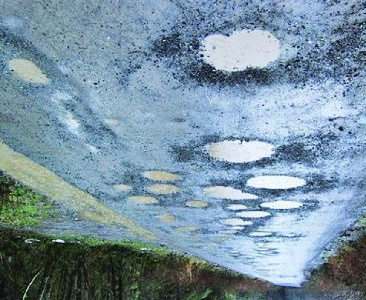pothole: (187, 25, 283, 87), (199, 138, 276, 166), (5, 57, 51, 88), (242, 176, 309, 192), (138, 169, 184, 184), (258, 198, 304, 211), (233, 208, 273, 219), (145, 183, 178, 196), (125, 195, 159, 206), (218, 217, 254, 226), (183, 200, 211, 210), (111, 184, 135, 194), (247, 229, 272, 238)
